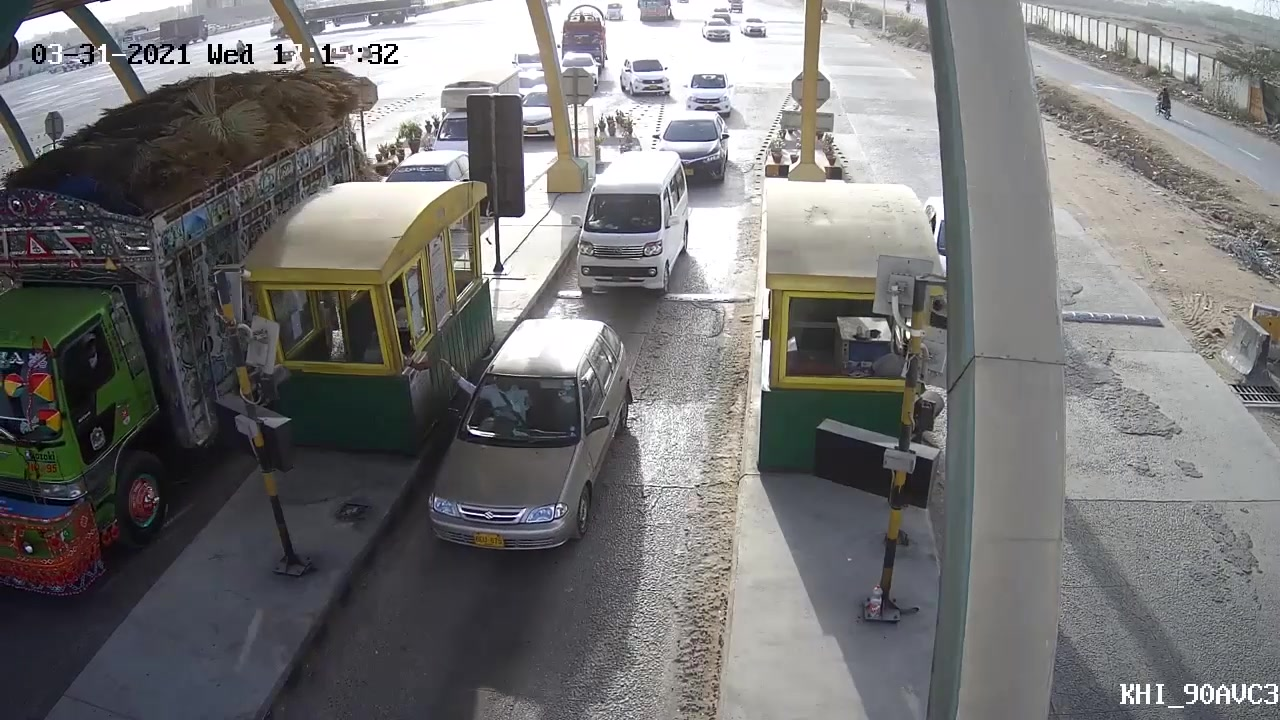F1: (407, 313, 637, 568), (575, 149, 691, 298)
